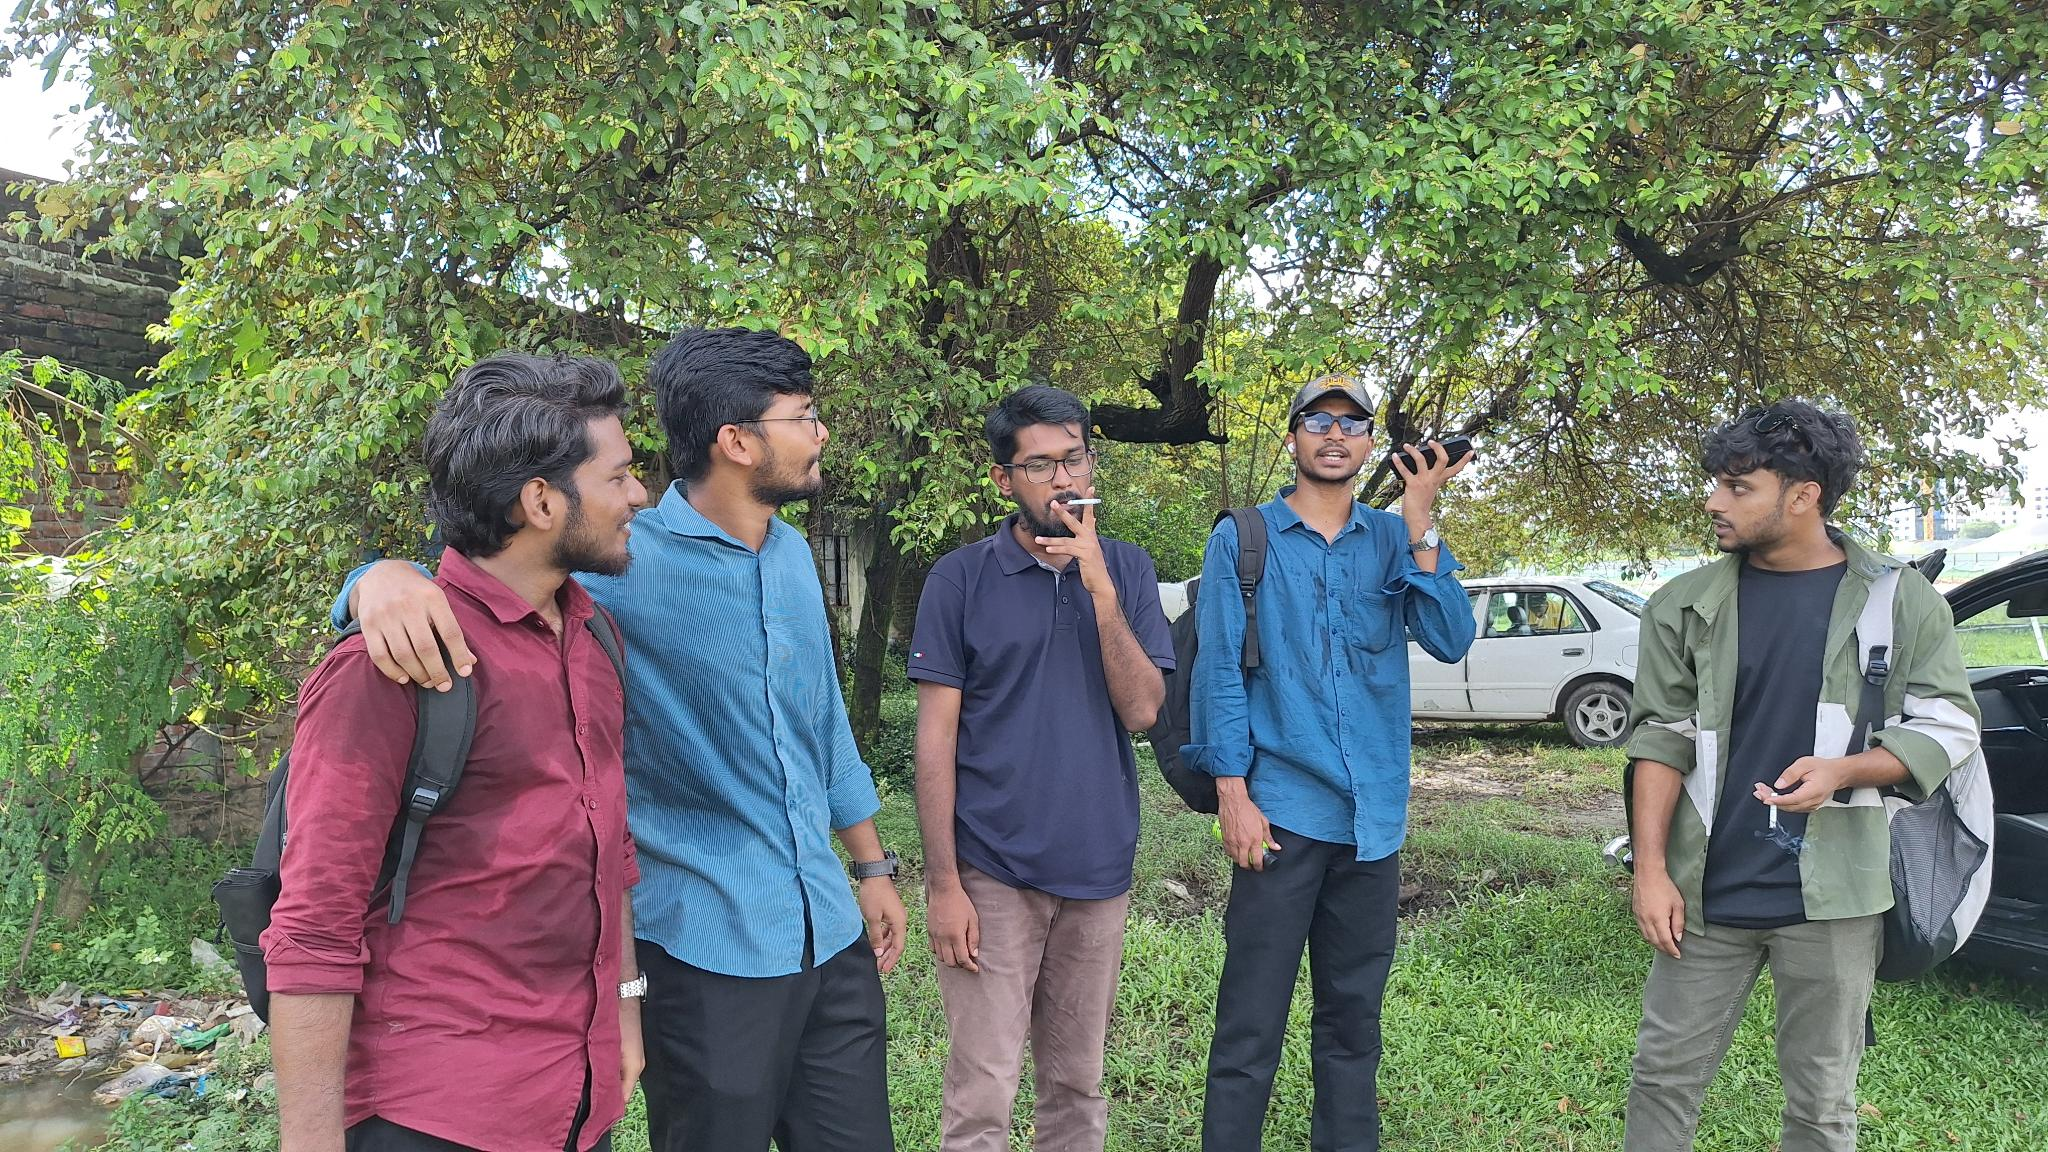cigarette: (1767, 791, 1782, 831), (1066, 497, 1104, 506)
nonSmoker: (214, 353, 651, 1152), (1153, 371, 1477, 1152), (620, 325, 909, 1152)
smoker: (1625, 399, 1995, 1152), (904, 383, 1173, 1152)
